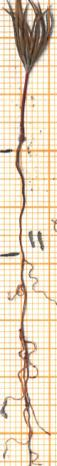flower: (0, 0, 57, 71)
root: (0, 253, 57, 466)
stem: (13, 71, 30, 253)
